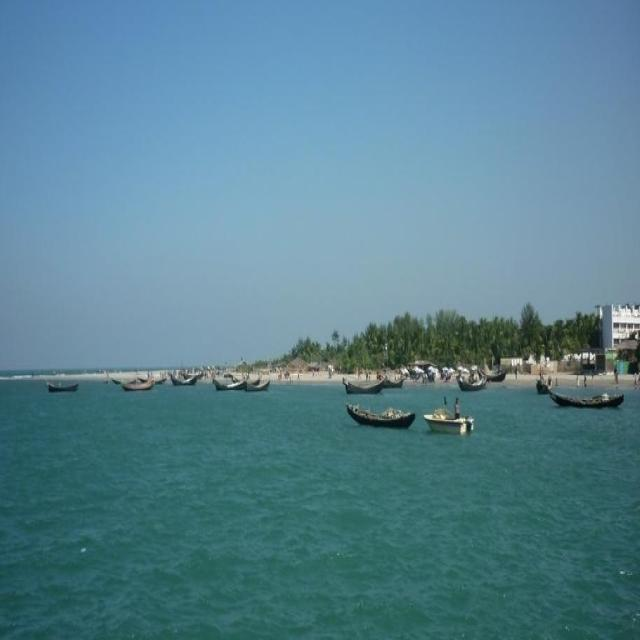boat: (548, 388, 627, 417), (422, 404, 478, 439), (346, 404, 418, 428), (115, 369, 158, 396), (336, 378, 388, 396), (211, 376, 245, 396), (169, 370, 200, 389), (50, 380, 82, 398), (454, 374, 489, 390)
